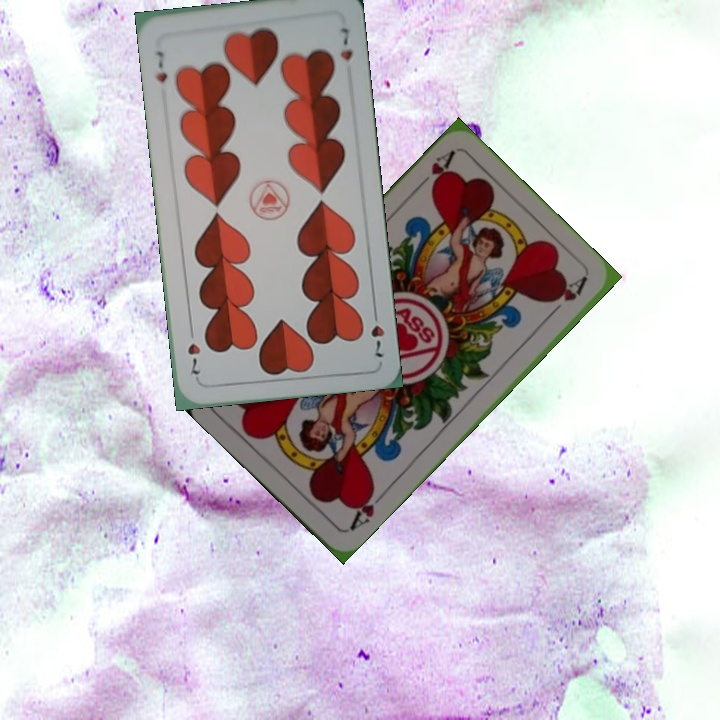H7: (367, 304, 387, 360), (152, 47, 170, 85)
HA: (345, 483, 390, 534), (410, 147, 458, 194)
